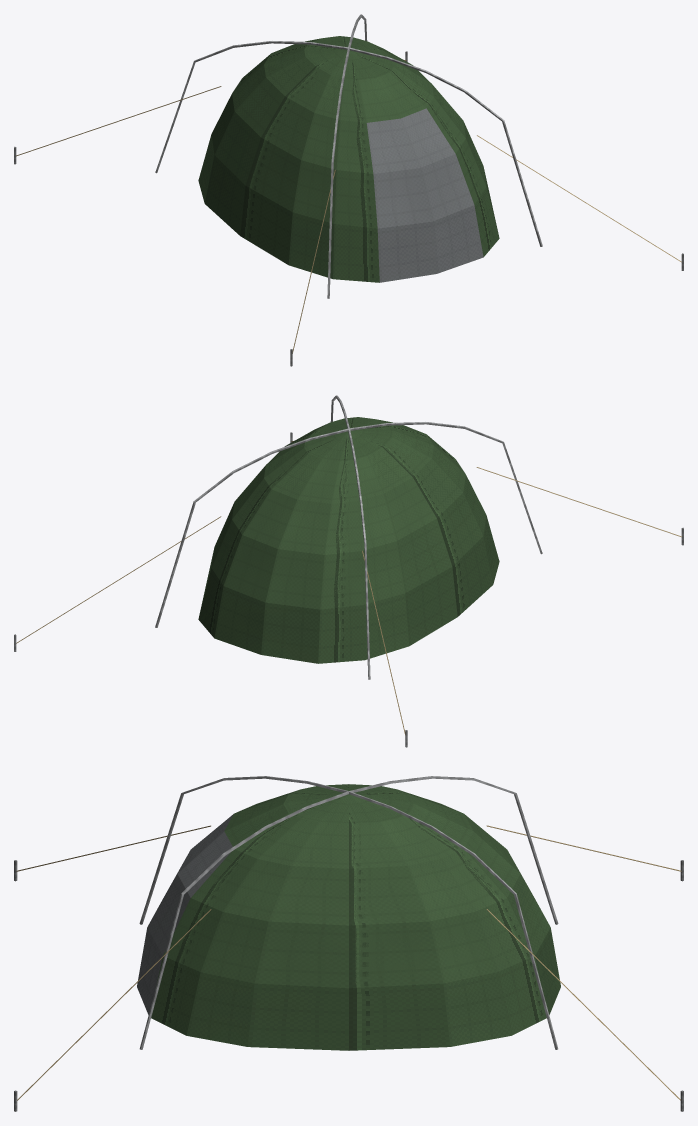
Rendered from CAMP_Tent_Dome_Small_01.fbx.
The picture shows the model from 3 angles, top to bottom: view 1: azimuth 30°, elevation 25°; view 2: azimuth 150°, elevation 25°; view 3: azimuth 270°, elevation 25°; orthographic projection. The views are drawn at different scales.
Visible parts, largest first — view 1: CAMP_Tent_Dome_Small_01; view 2: CAMP_Tent_Dome_Small_01; view 3: CAMP_Tent_Dome_Small_01.
Boxes of the visible parts, x1=… form: CAMP_Tent_Dome_Small_01: x1=14, y1=14, x2=683, y2=366; CAMP_Tent_Dome_Small_01: x1=14, y1=395, x2=683, y2=747; CAMP_Tent_Dome_Small_01: x1=14, y1=776, x2=683, y2=1111.
Size of the model in its own units: 2.72 by 1.12 by 3.32.
5 materials, 5 textured.
